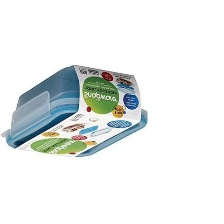plastic_box: (0, 58, 155, 164)
